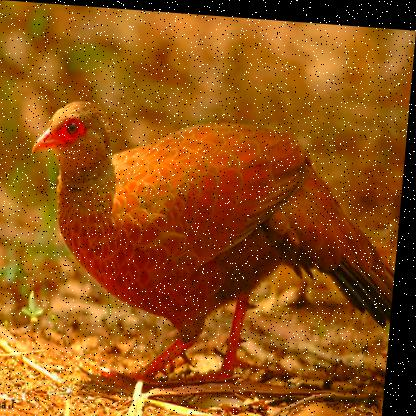Burung: (20, 95, 409, 394)
